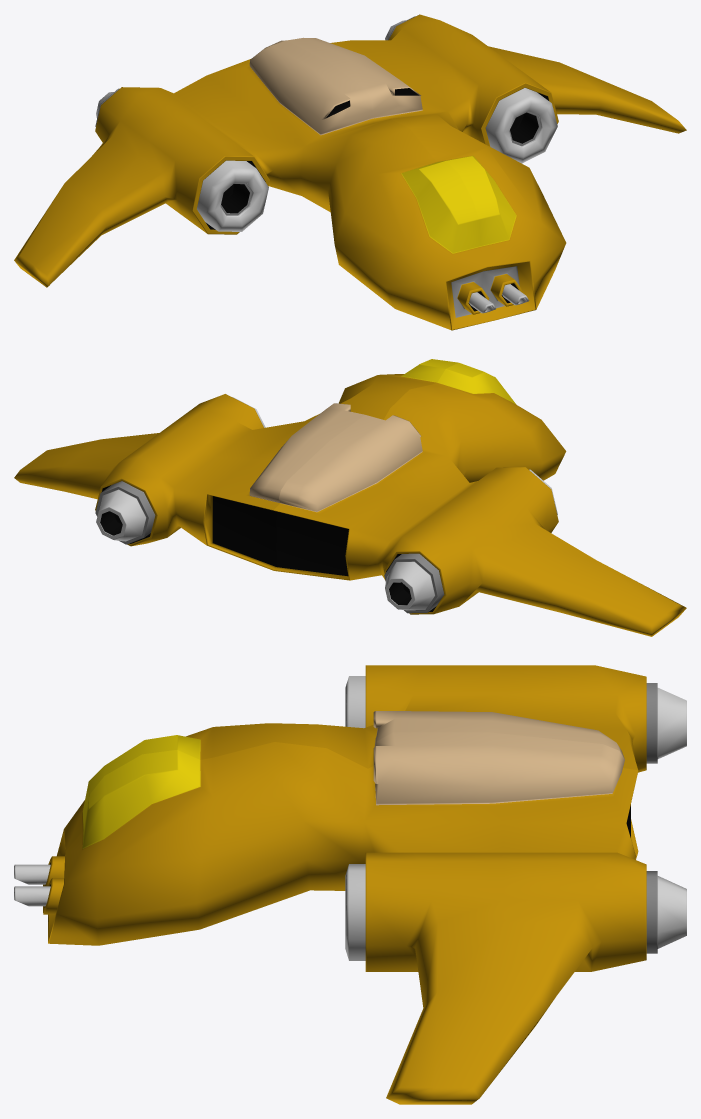
File: Ship3.fbx
3 views of the same model, one above another, from view 1: azimuth 30°, elevation 25°; view 2: azimuth 150°, elevation 25°; view 3: azimuth 270°, elevation 25° (orthographic). The views are drawn at different scales.
Parts seen in each view (by area): view 1: pCube9; view 2: pCube9; view 3: pCube9.
Part boxes in pixels (x1,y1,x2,y2): pCube9: (14,14,686,330); pCube9: (14,359,686,636); pCube9: (14,665,686,1104).
Size of the model in its own units: 12.99 by 2.68 by 8.85.
